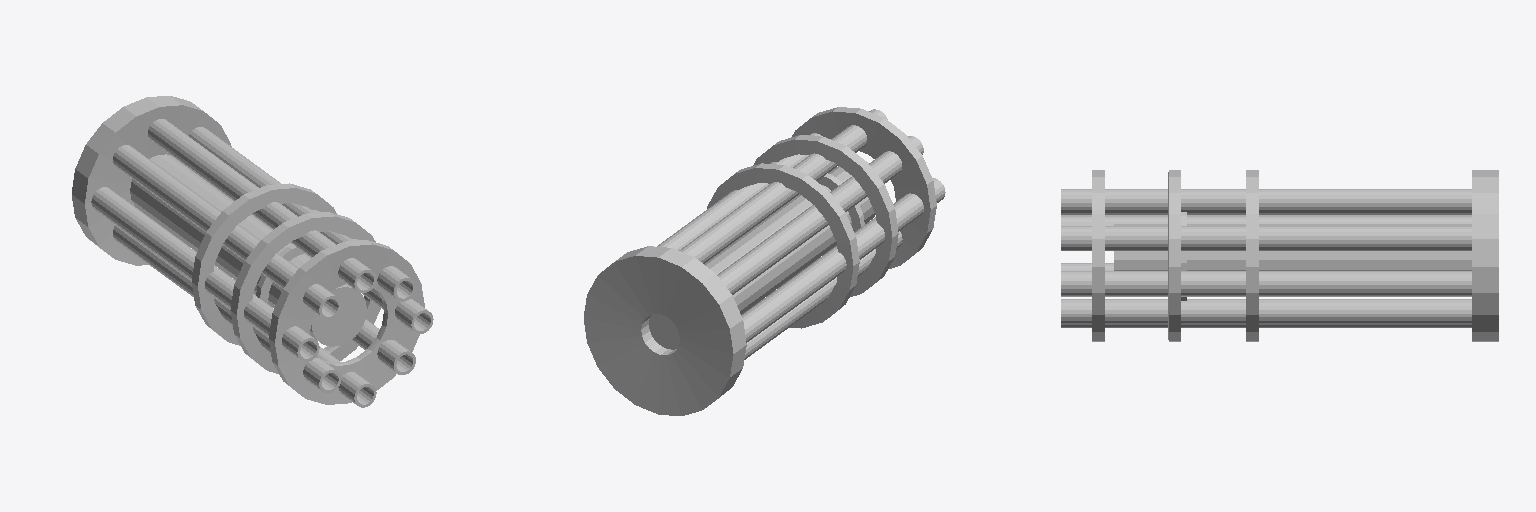
Rendered from Minigun.obj.
3 views of the same model, side by side, from view 1: azimuth 30°, elevation 25°; view 2: azimuth 150°, elevation 25°; view 3: azimuth 270°, elevation 25° (orthographic).
Parts seen in each view (by area): view 1: pTorus1, pTorus5, pCylinder1, pCylinder4, pCylinder9, pCylinder2, pTorus3, pTorus4, pCylinder6, pCylinder8, pCylinder7, pCylinder5 (+2 smaller); view 2: pTorus5, pCylinder1, pTorus1, pTorus4, pCylinder4, pCylinder9, pTorus3, pCylinder2, pCylinder6, pCylinder8, pTorus2; view 3: pCylinder5, pCylinder7, pCylinder6, pCylinder2, pCylinder1, pTorus5, pCylinder4, pTorus4, pTorus1, pTorus3, pCylinder3.
Boxes of the visible parts, x1,y1,x2,y2 form: pTorus1: [269, 240, 424, 404]; pTorus5: [72, 96, 231, 265]; pCylinder1: [130, 154, 366, 346]; pCylinder4: [91, 187, 319, 361]; pCylinder9: [113, 145, 340, 319]; pCylinder2: [148, 119, 376, 293]; pTorus3: [230, 212, 380, 373]; pTorus4: [192, 183, 336, 345]; pCylinder6: [188, 127, 415, 301]; pCylinder8: [113, 225, 340, 392]; pCylinder7: [352, 319, 415, 374]; pCylinder5: [363, 288, 433, 333]; pTorus5: [584, 246, 746, 415]; pCylinder1: [649, 166, 875, 349]; pTorus1: [792, 107, 936, 268]; pTorus4: [707, 163, 859, 328]; pCylinder4: [741, 178, 945, 342]; pCylinder9: [717, 136, 923, 294]; pTorus3: [753, 135, 898, 296]; pCylinder2: [679, 109, 887, 263]; pCylinder6: [657, 133, 822, 250]; pCylinder8: [744, 231, 902, 359]; pTorus2: [806, 173, 864, 267]; pCylinder5: [1061, 271, 1471, 296]; pCylinder7: [1061, 299, 1471, 324]; pCylinder6: [1061, 226, 1471, 250]; pCylinder2: [1061, 189, 1471, 213]; pCylinder1: [1114, 224, 1471, 270]; pTorus5: [1472, 170, 1498, 341]; pCylinder4: [1061, 215, 1471, 225]; pTorus4: [1246, 170, 1258, 341]; pTorus1: [1092, 170, 1104, 341]; pTorus3: [1168, 170, 1180, 341]; pCylinder3: [1061, 325, 1471, 327].
Bounding box in the file's own units: 5.38 × 5.38 × 13.59.